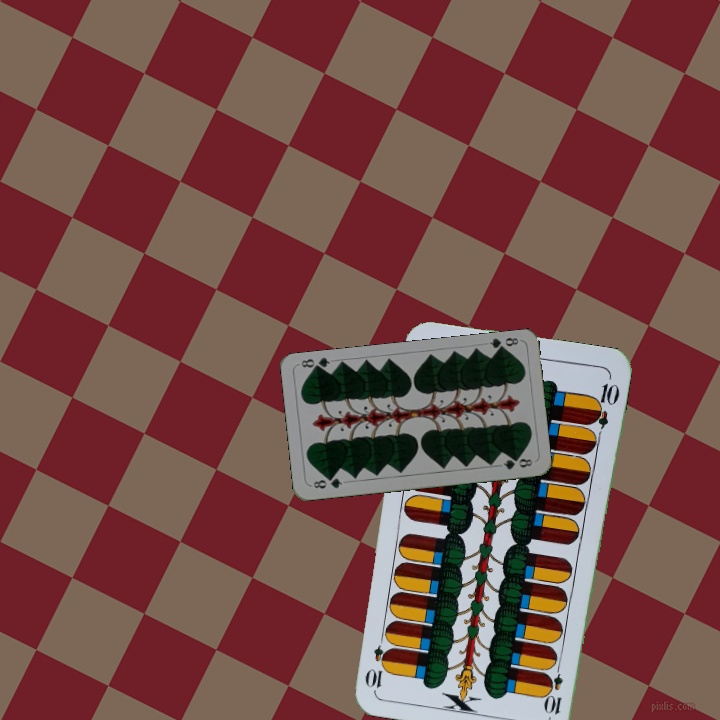E10: (544, 658, 566, 717)
G8: (486, 333, 521, 355), (309, 473, 345, 491)
